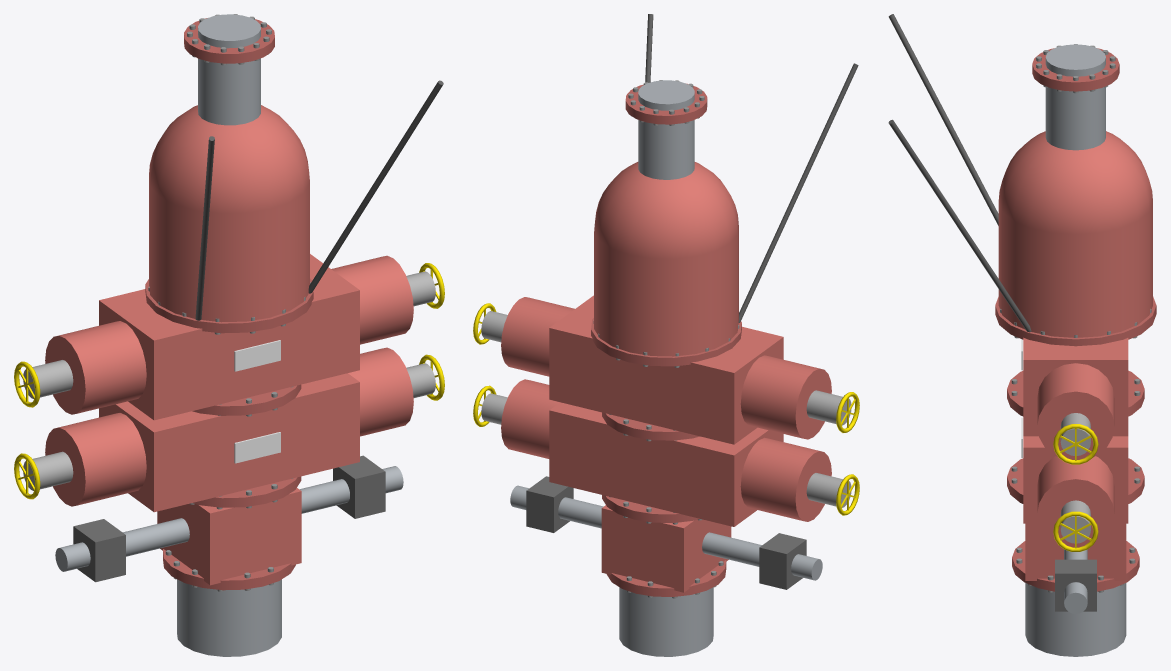
The model's file is bop.glb.
3 views of the same model, side by side, from view 1: azimuth 30°, elevation 25°; view 2: azimuth 150°, elevation 25°; view 3: azimuth 270°, elevation 25° (orthographic). The views are drawn at different scales.
Visible parts, largest first — view 1: object 12, object 7, object 17, object 18, object 2, object 1, object 8, object 13, object 19, inst (×3), object 15, object 10 (+15 smaller); view 2: object 12, object 7, object 17, object 18, object 2, object 1, object 8, object 13, object 19, object 15, object 10, inst (×2) (+14 smaller); view 3: object 17, object 18, object 1, object 19, object 15, object 12, object 10, object 7, object 2, inst (×3), object 25, object 6 (+9 smaller).
Part boxes in pixels (x1,y1,x2,y2): object 12: [99, 254, 359, 420]; object 7: [99, 373, 359, 512]; object 17: [149, 178, 309, 322]; object 18: [149, 105, 309, 213]; object 2: [157, 488, 301, 585]; object 1: [177, 579, 281, 656]; object 8: [45, 413, 146, 506]; object 13: [45, 321, 146, 414]; object 19: [198, 14, 260, 125]; inst (×3): [14, 14, 444, 591]; object 15: [331, 255, 413, 344]; object 10: [348, 347, 413, 436]; object 12: [549, 295, 783, 444]; object 7: [549, 402, 783, 526]; object 17: [594, 226, 738, 356]; object 18: [594, 162, 738, 258]; object 2: [601, 505, 731, 592]; object 1: [619, 587, 713, 656]; object 8: [740, 437, 831, 521]; object 13: [740, 355, 831, 439]; object 19: [638, 80, 694, 179]; object 15: [501, 297, 574, 376]; object 10: [501, 379, 559, 458]; inst (×2): [473, 80, 859, 598]; object 17: [998, 202, 1152, 337]; object 18: [998, 131, 1152, 234]; object 1: [1025, 583, 1126, 656]; object 19: [1045, 44, 1105, 150]; object 15: [1037, 363, 1114, 459]; object 12: [1023, 337, 1128, 436]; object 10: [1037, 456, 1114, 547]; object 7: [1023, 436, 1128, 523]; object 2: [1025, 523, 1126, 580]; inst (×3): [1000, 44, 1151, 592]; object 25: [995, 296, 1156, 346]; object 6: [1055, 559, 1096, 611].
Size of the model in its own units: 5.35 by 7.6 by 3.19.
